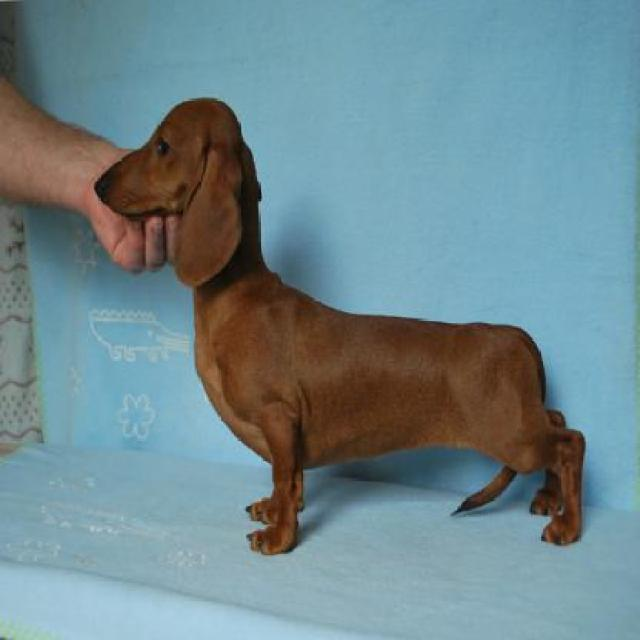Dog: (92, 89, 591, 563)
